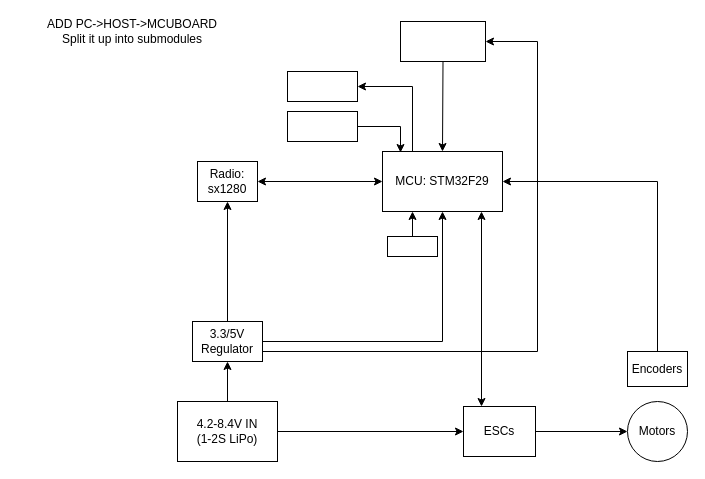
Some shapes in this 705 by 479 pixel diagram are drawn without their labels. Here are the shapes that lost their labels. From the top down, the centre of each, then its label:
At (x=443, y=41): "IMU: MPU9250".
At (x=322, y=86): "LEDs (Power/Error)".
At (x=322, y=126): "Switches (Reset)".
At (x=412, y=246): "Oscillator".
